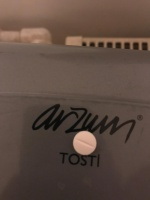Arveles: (72, 130, 97, 156)
